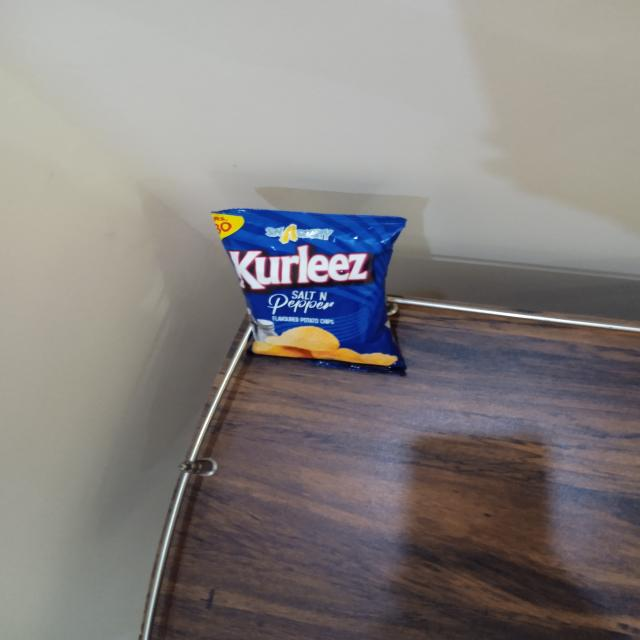Plastic: (205, 204, 413, 378)
